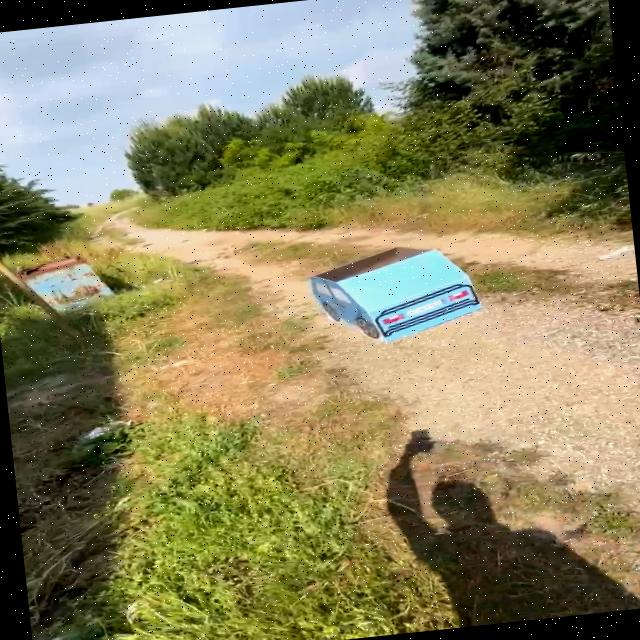blue_car: (289, 231, 495, 352)
